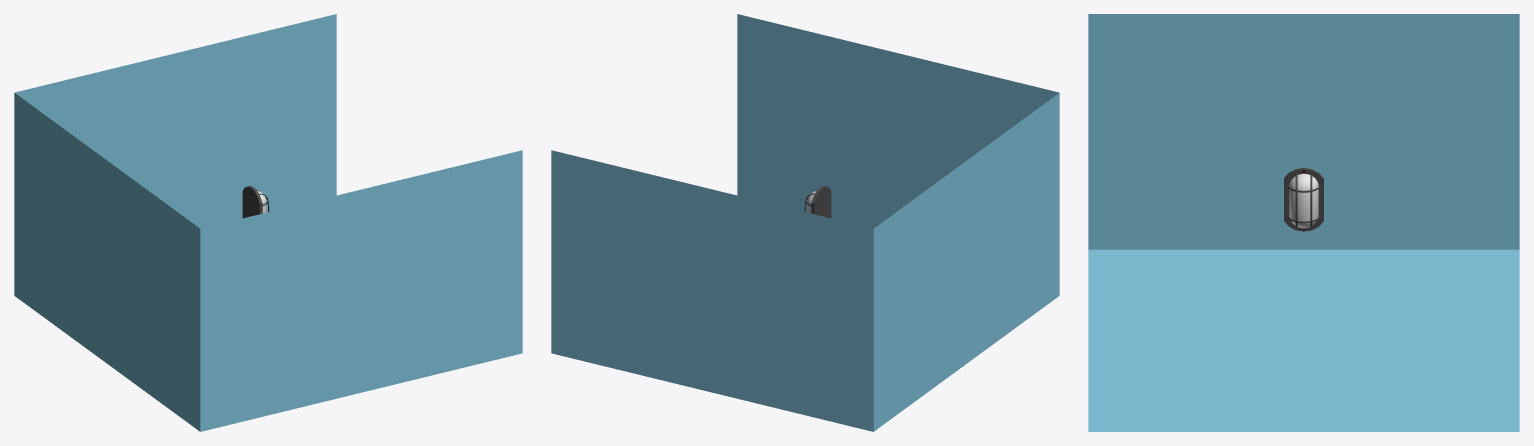
File: industrial light - round.fbx
The picture shows the model from 3 angles, left to right: view 1: azimuth 30°, elevation 25°; view 2: azimuth 150°, elevation 25°; view 3: azimuth 270°, elevation 25°; orthographic projection. The views are drawn at different scales.
Parts seen in each view (by area): view 1: Plane, Cylinder; view 2: Plane, Cylinder; view 3: Plane, Sphere, Cylinder, Sphere.001.
Part boxes in pixels (left/top/right/bottom): Plane: left=14, top=14, right=522, bottom=431; Cylinder: left=242, top=186, right=262, bottom=218; Plane: left=551, top=14, right=1059, bottom=431; Cylinder: left=811, top=186, right=831, bottom=218; Plane: left=1088, top=14, right=1519, bottom=431; Sphere: left=1289, top=173, right=1318, bottom=228; Cylinder: left=1284, top=168, right=1323, bottom=231; Sphere.001: left=1286, top=174, right=1321, bottom=227.
Bounding box in the file's own units: 1825 × 1100 × 1825.
